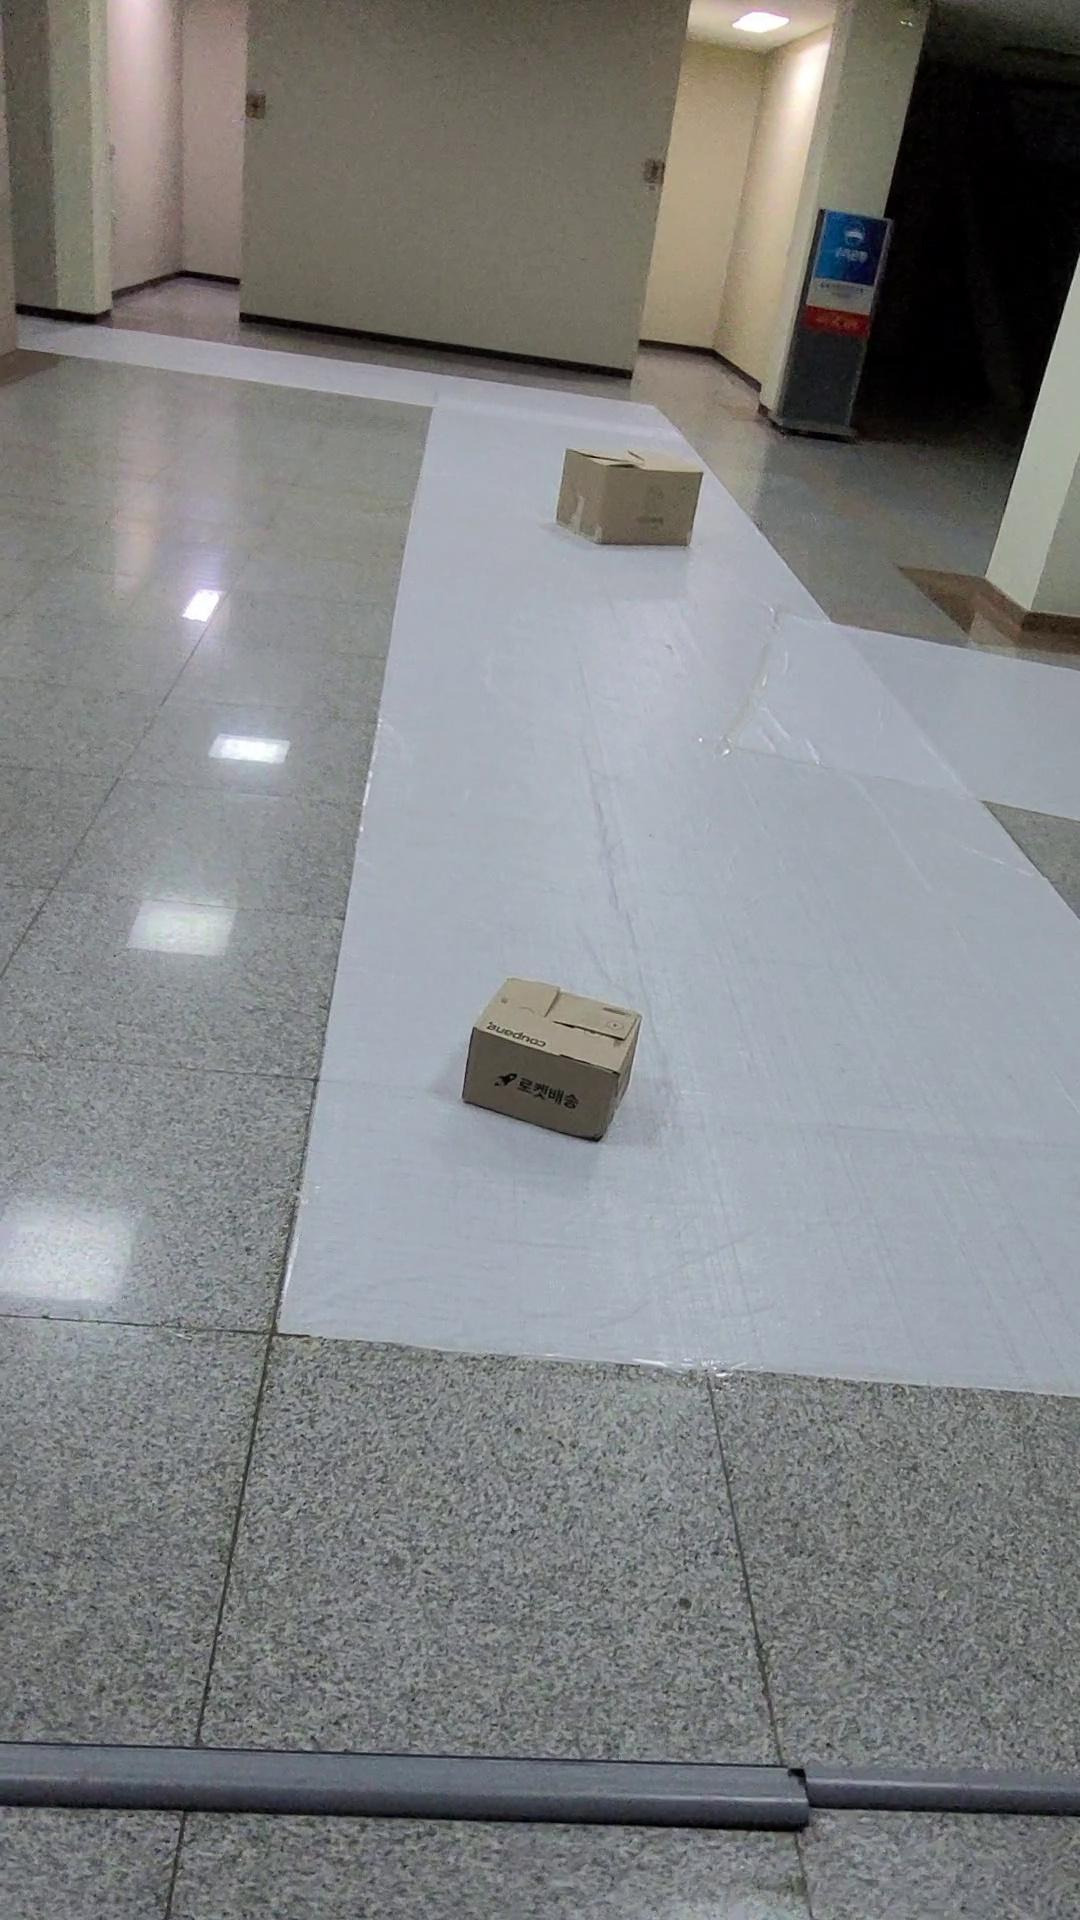Box: (446, 938, 698, 1185), (508, 418, 729, 568)
